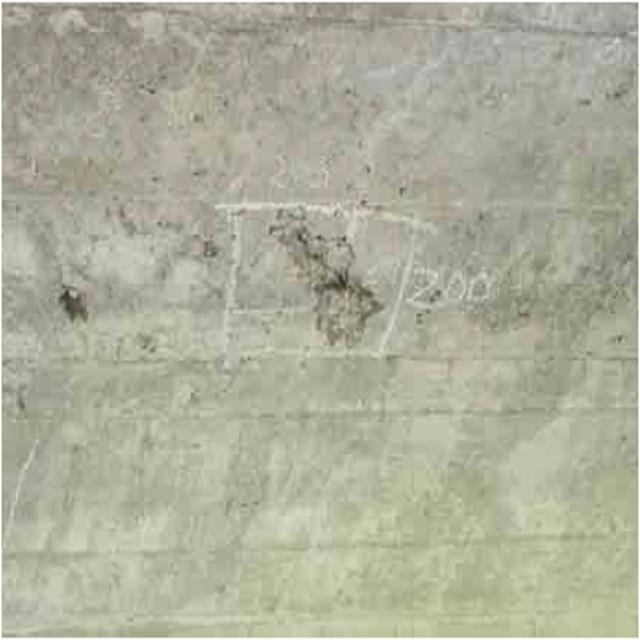spalling: (252, 189, 387, 367)
